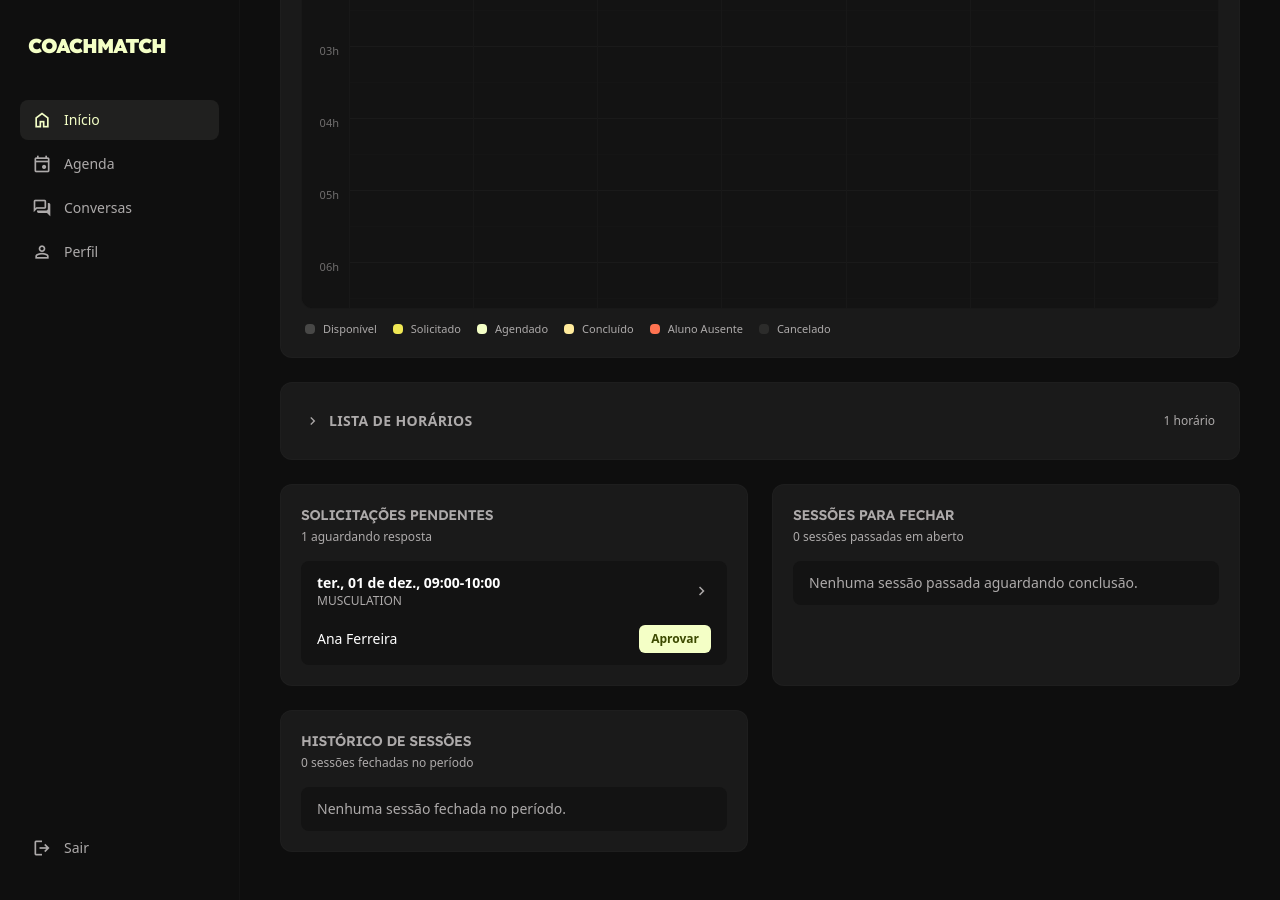
Test case: CoachSchedulePage › aba Agenda › abre o modal da sessão ao clicar num card de solicitação pendente
The width and height of the screenshot is (1280, 900).
(page scrolled)
Expected: the text "1 aguardando resposta" is shown, x1=301 y1=528 x2=432 y2=545
What coordinates should you click on to do the following:
click the button "ter., 01 de dez., 09:00-10:00 MUSCULATION"
I would click on:
 (388, 582)
Its box is x1=309 y1=569 x2=719 y2=613.
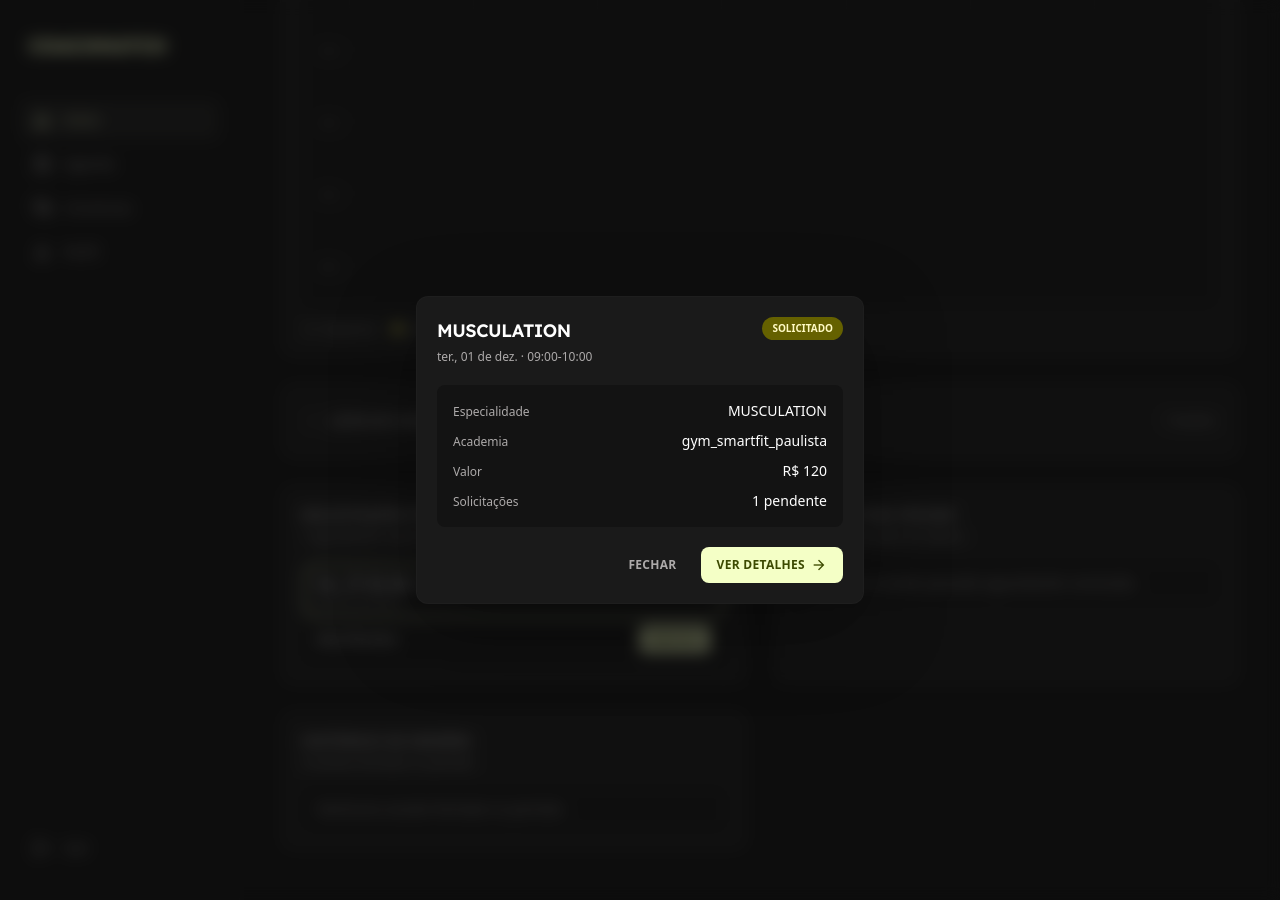
Expected: the button "Ver detalhes" is shown, x1=700 y1=547 x2=843 y2=583
Expected: the text "1 pendente" is shown, x1=752 y1=491 x2=827 y2=511
